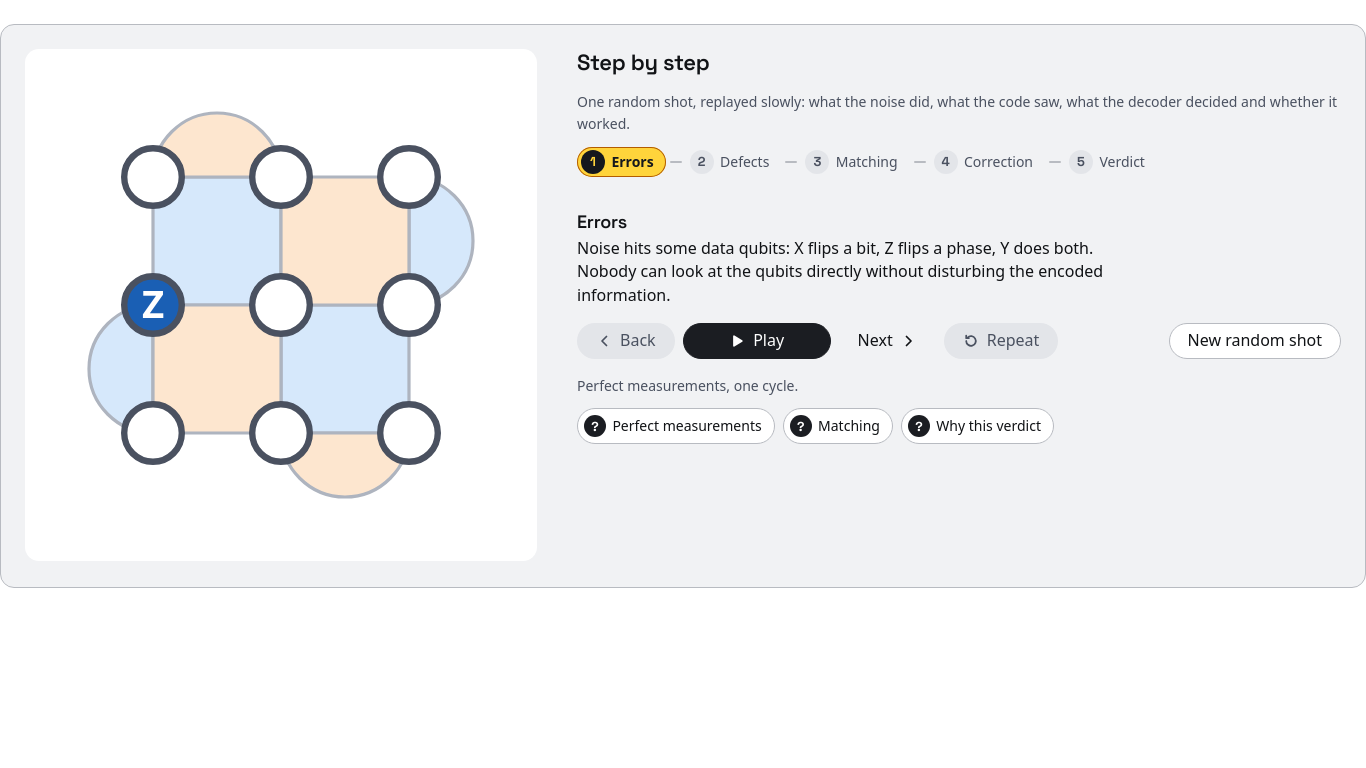
Scenario: StepsPanel › next, back and repeat move the current step and its explanation
Later steps or results of the test are not shown.
What coordinates should you click on to do the following:
click the button "Next"
I would click on:
 (887, 341)
Its box is 839,323 -> 936,359.
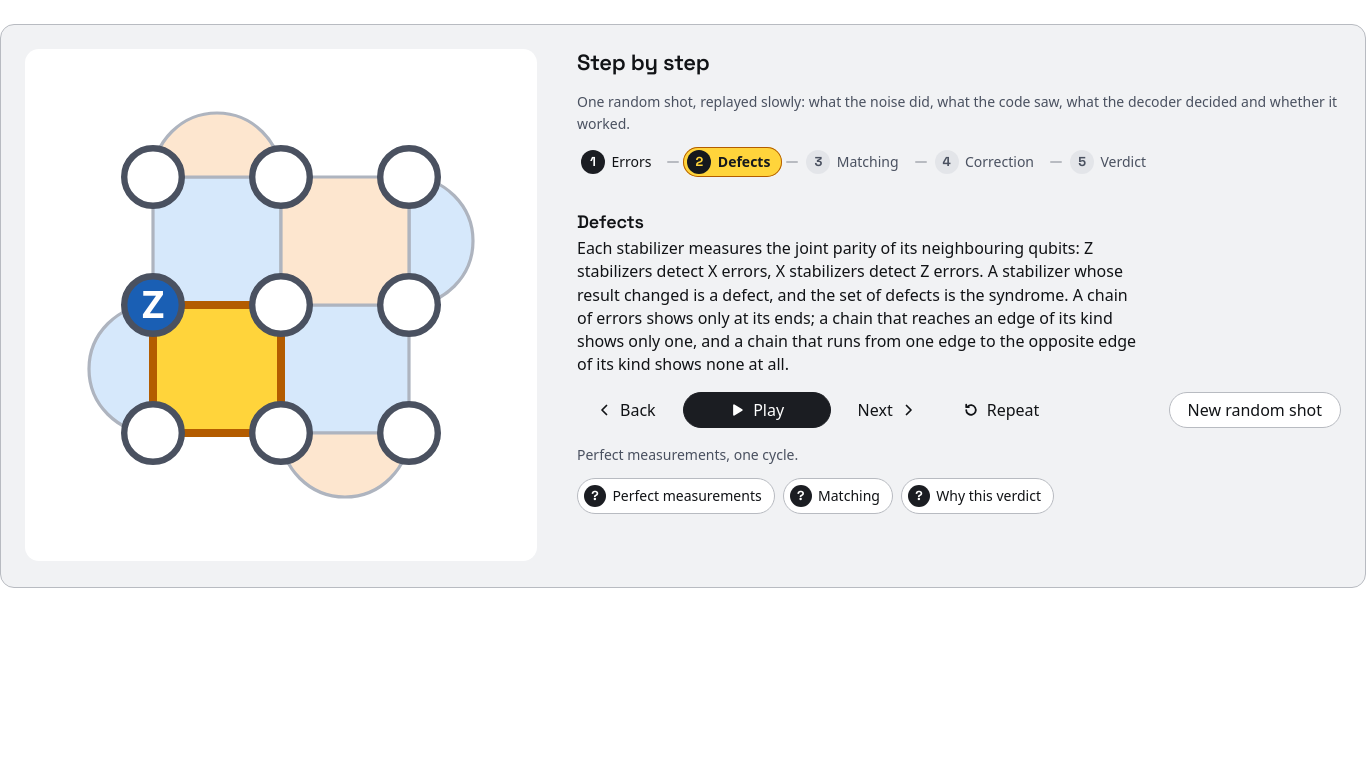
What coordinates should you click on to do the following:
click the button "Next"
I would click on:
 (887, 410)
Its box is 839,392 -> 936,428.
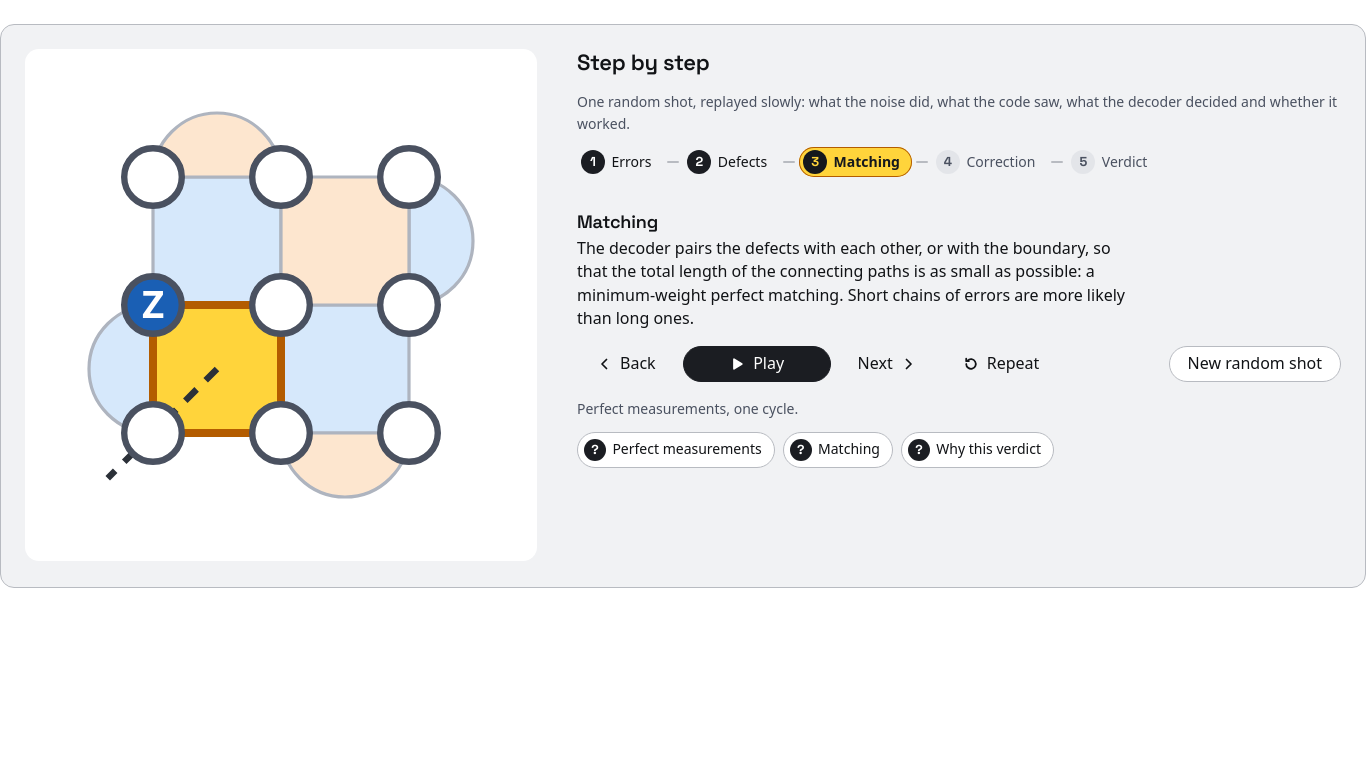
Check: the element with class "steps__explain" shows "The decoder pairs the defects with each other, or with the boundary, so that the total length of the connecting paths is as small as possible: a minimum-weight", box 577,237 -> 1125,329
